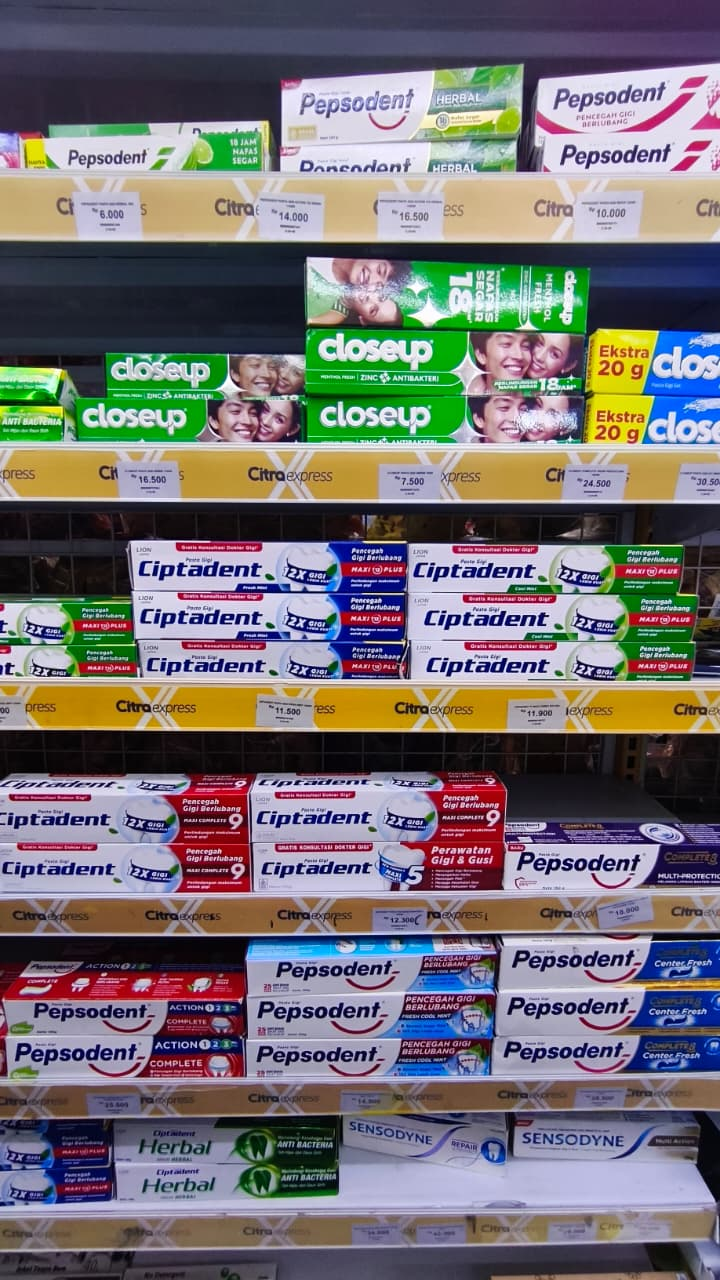Ciptadent: (406, 498, 537, 629), (247, 748, 378, 879)
Closeup: (309, 294, 440, 425), (133, 505, 264, 636)
Pepsodent: (510, 893, 641, 1024)
